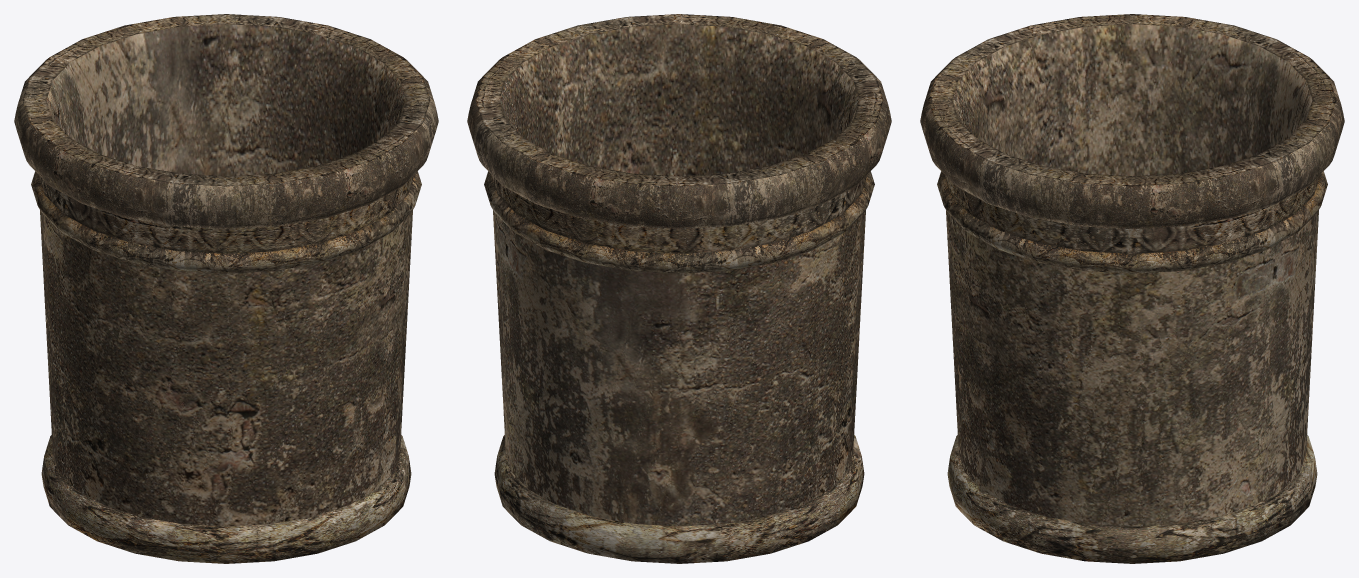
The model's file is materials_5_pot_7.fbx.
3 views of the same model, side by side, from view 1: azimuth 30°, elevation 25°; view 2: azimuth 150°, elevation 25°; view 3: azimuth 270°, elevation 25° (orthographic).
Visible parts, largest first — view 1: materials_5_pot_7; view 2: materials_5_pot_7; view 3: materials_5_pot_7.
Part boxes in pixels (x1,y1,x2,y2): materials_5_pot_7: (14,14,438,563); materials_5_pot_7: (467,14,891,563); materials_5_pot_7: (920,14,1344,563).
Size of the model in its own units: 24.32 by 24.65 by 24.32.
